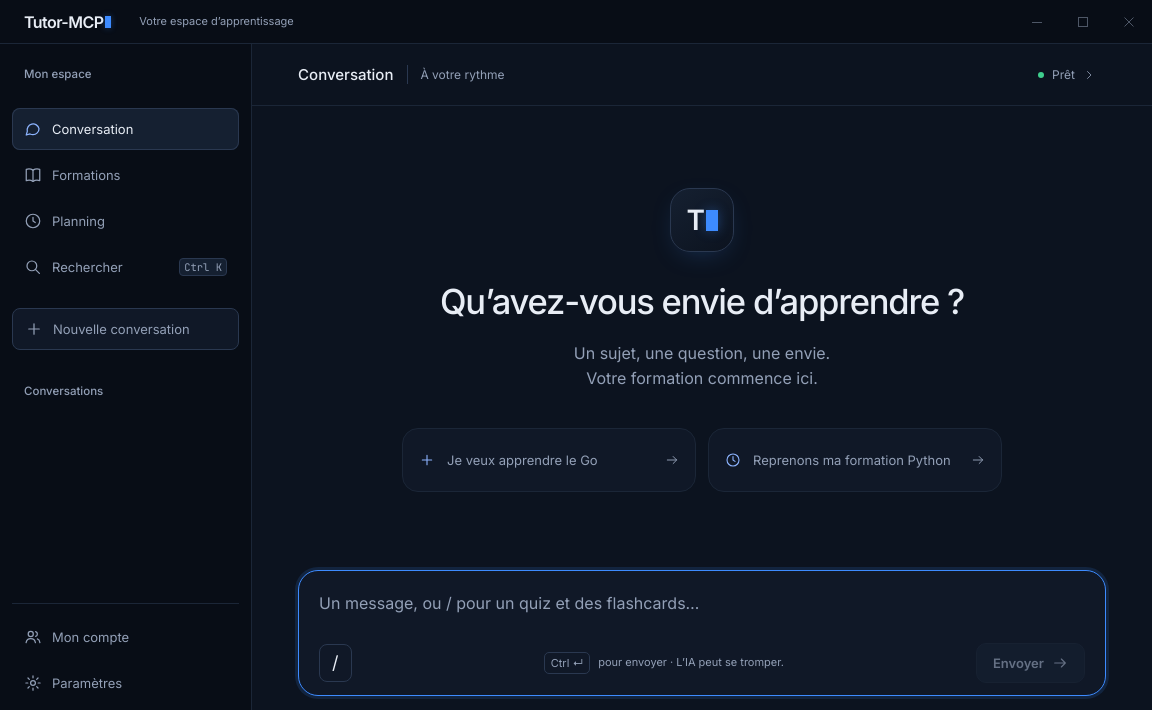
Test: Compte et paramètres persistants › empêche l’effacement du dernier propriétaire et explique le transfert
Click the button "Mon compte" at (126, 637), box [12,616,239,658]
(page scrolled)
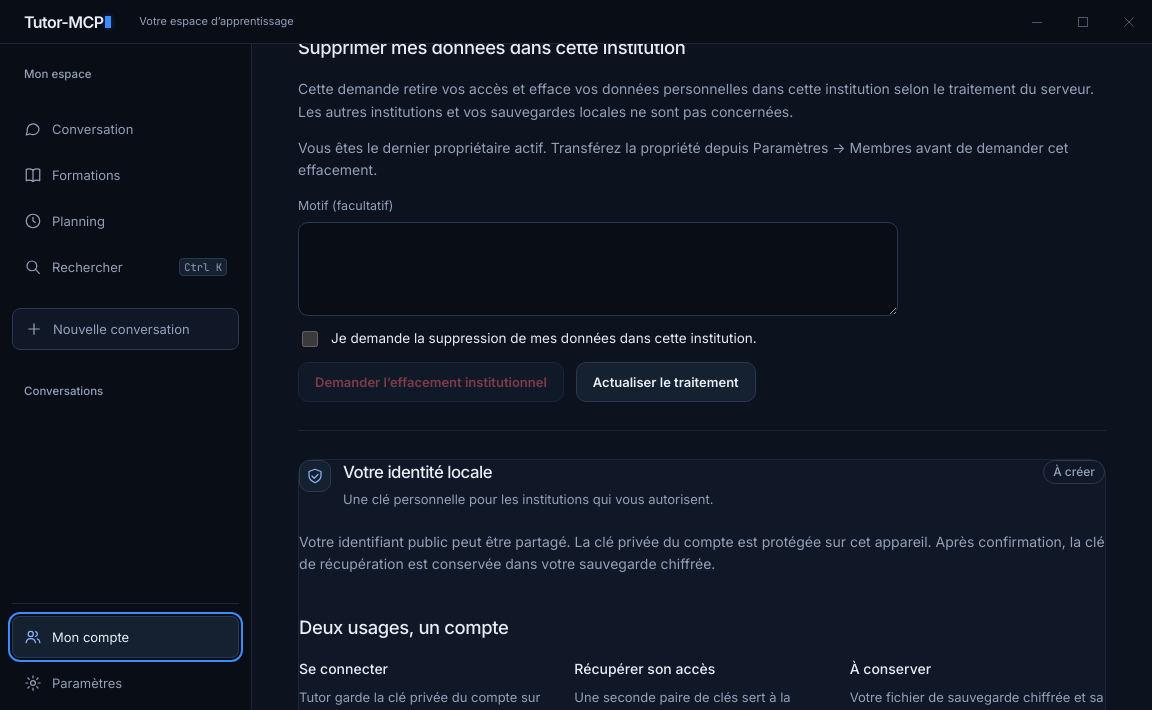
Check: the text "Vous êtes le dernier propriétaire actif" is shown, box [298,139,1068,178]
Check: the button "Demander l’effacement institutionnel" is disabled, box [298,362,564,402]
